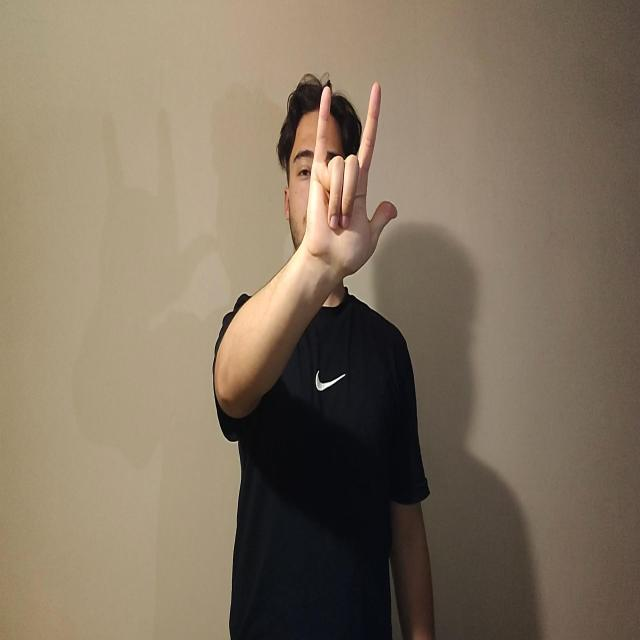iloveyou: (303, 79, 398, 284)
